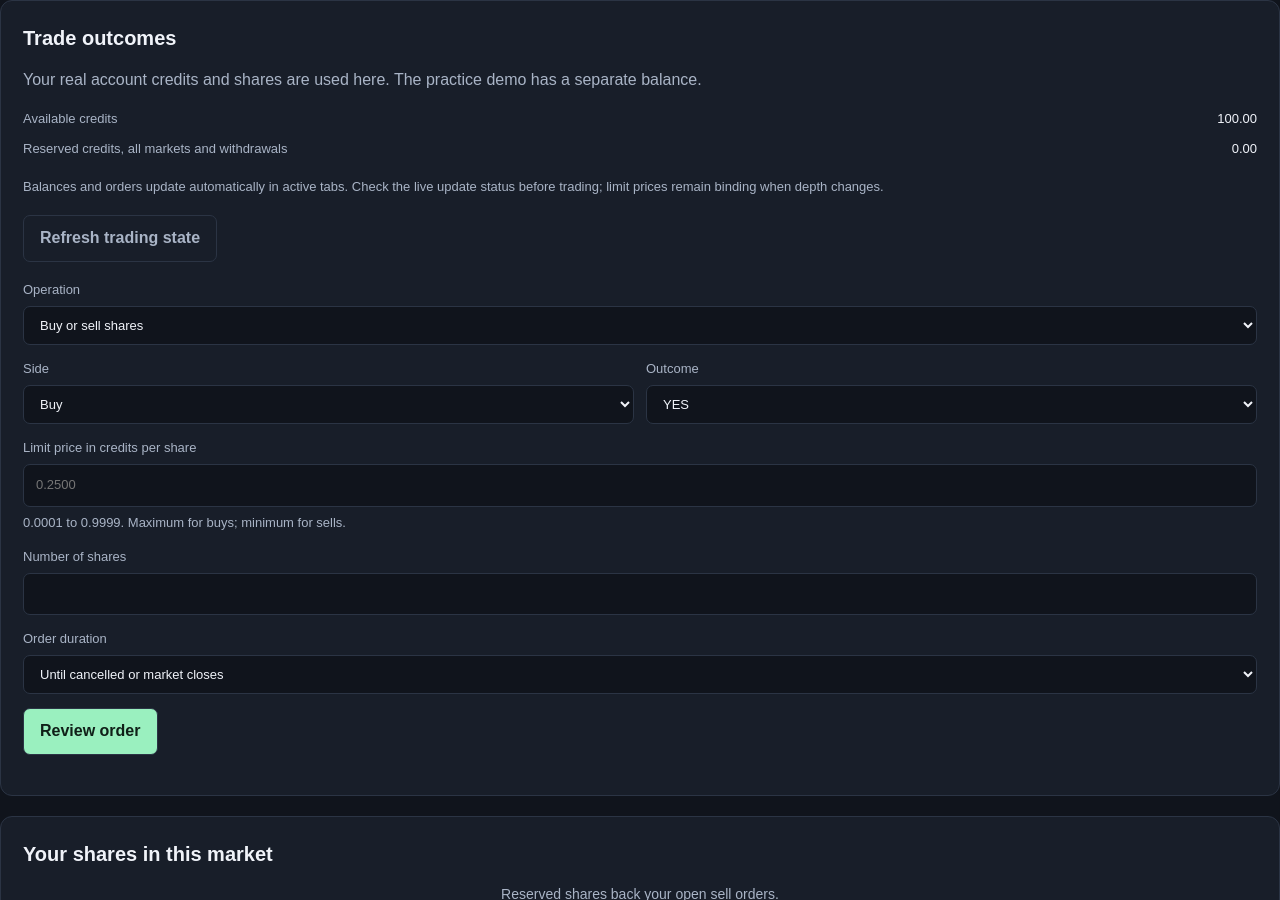
Test case: participant trading controls › requires review, shows the exact reservation and refreshes after a confirmed partial fill
Type "0.2501" into the field.
click(640, 485); type("0.2501")  # box [23, 464, 1257, 506]
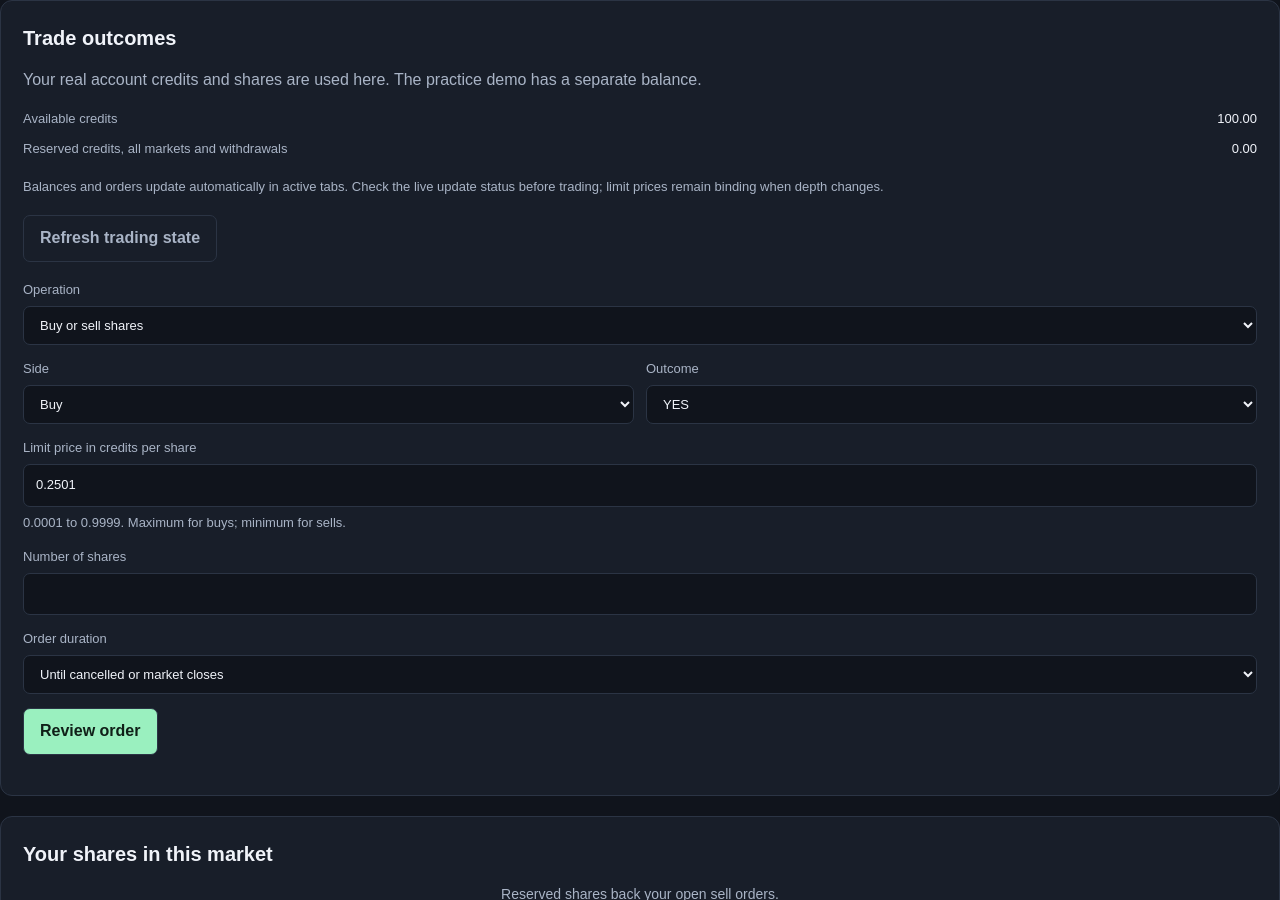
Type "3" into the number field labelled "Number of shares".
click(640, 594); type("3")  # box [23, 573, 1257, 615]
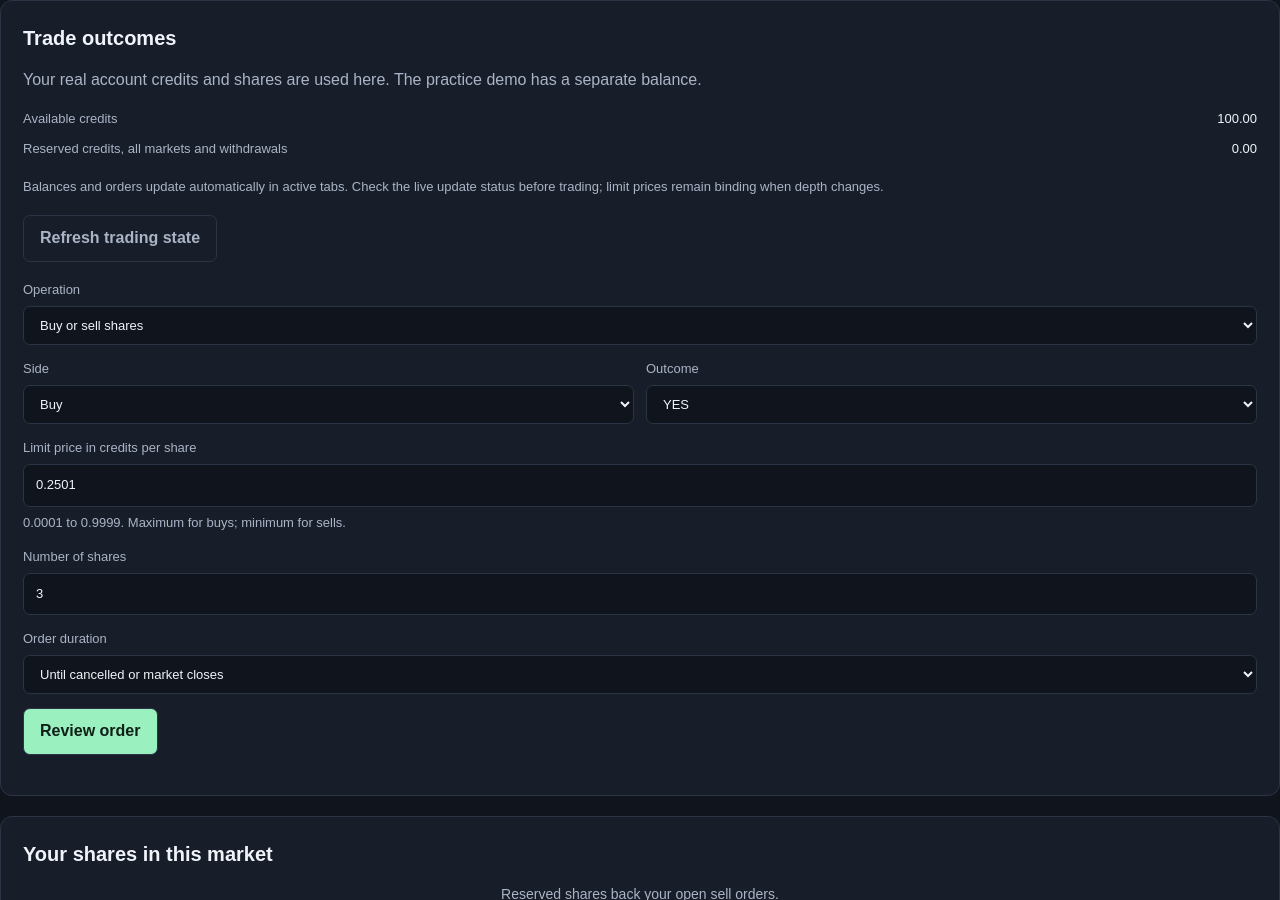
Click the button "Review order".
click(90, 732)  # box [23, 708, 158, 755]
(page scrolled)
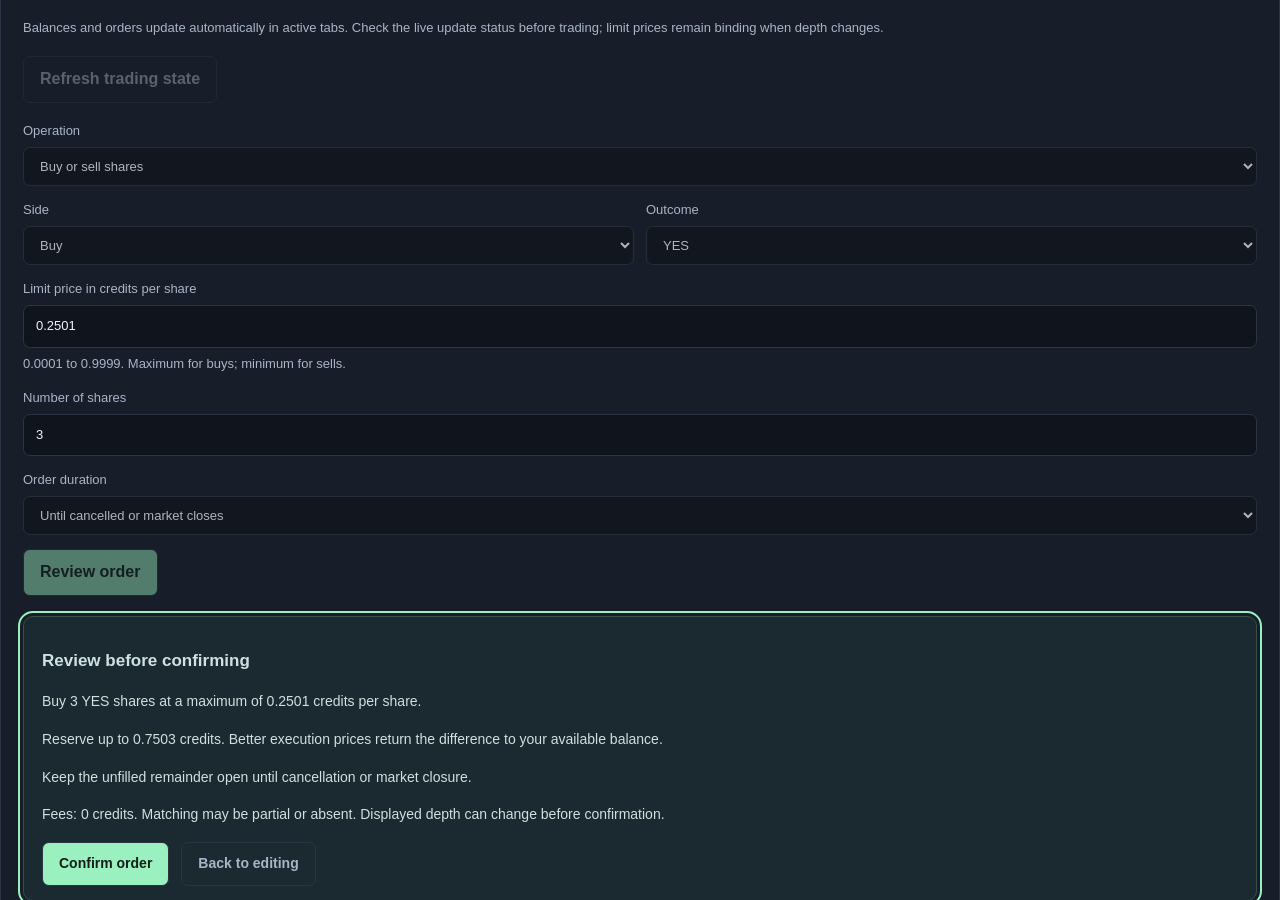
Check: the text "Reserve up to 0.7503 credits" is shown, box [42, 731, 663, 747]
Click the button "Confirm order".
click(106, 864)  # box [42, 842, 169, 886]
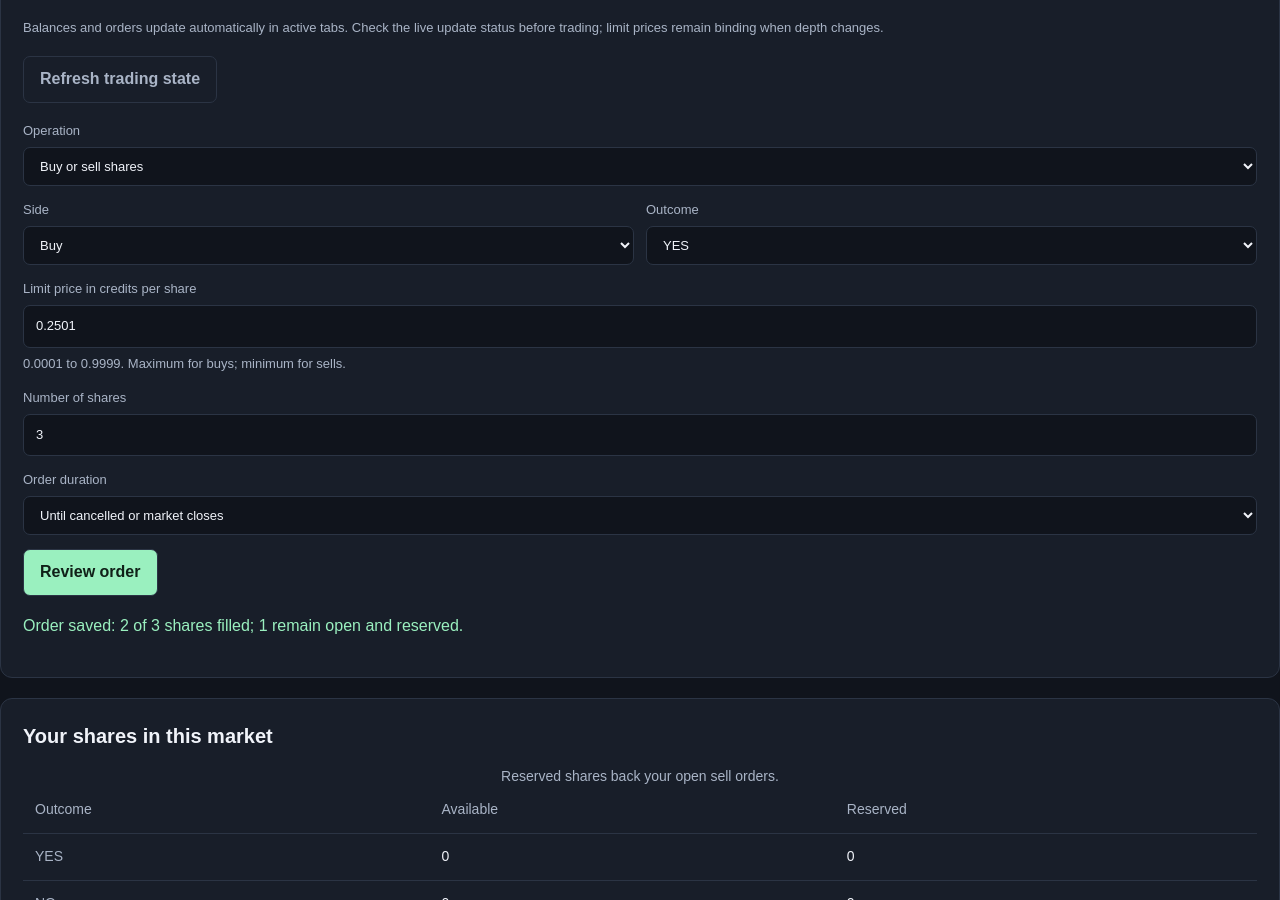
Check: the text "2 of 3 shares filled; 1 remain open and reserved" is shown, box [23, 617, 463, 634]
